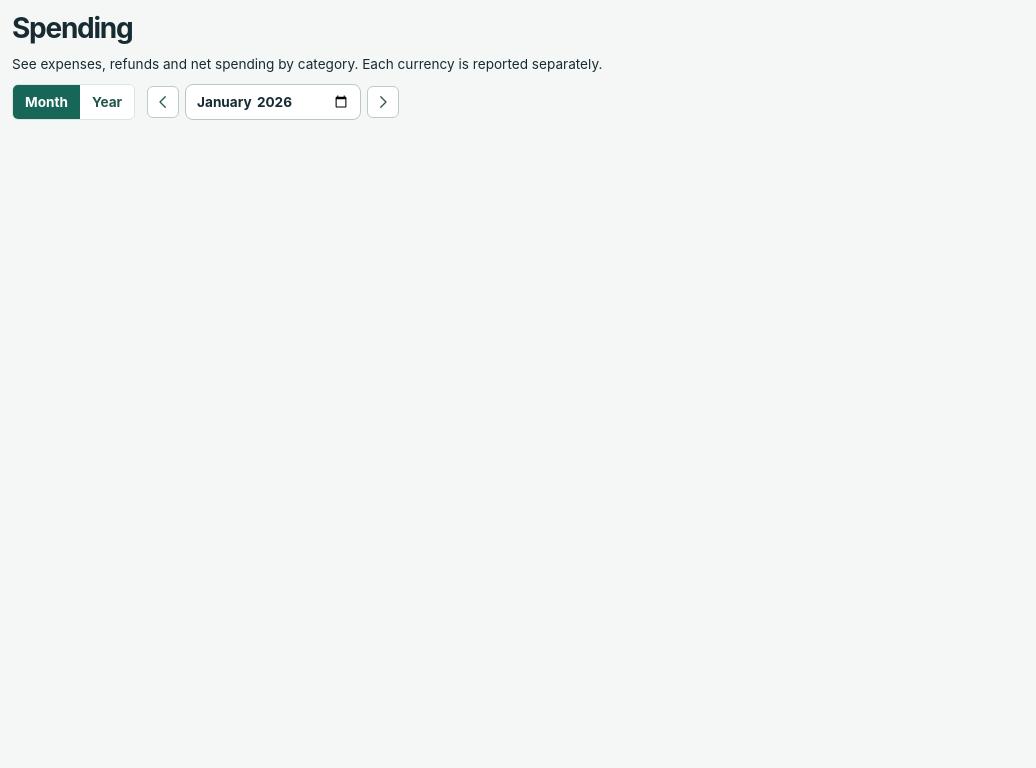
keeps partial year input local, commits on blur and restores invalid input
Click the button "Year". click: (107, 102)
box: [80, 85, 134, 119]
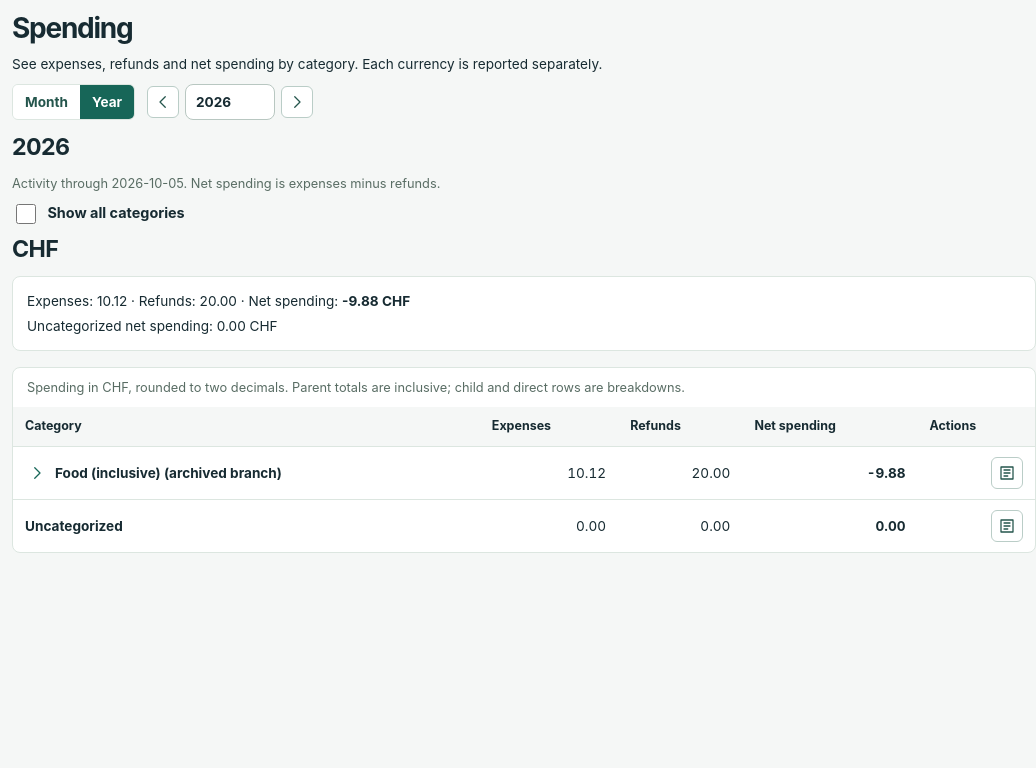
Expected: the heading "2026" is shown, [12, 133, 70, 161]
Replace the text in the number field named "Period" with "26". click: (230, 102)
box: [185, 84, 275, 120]
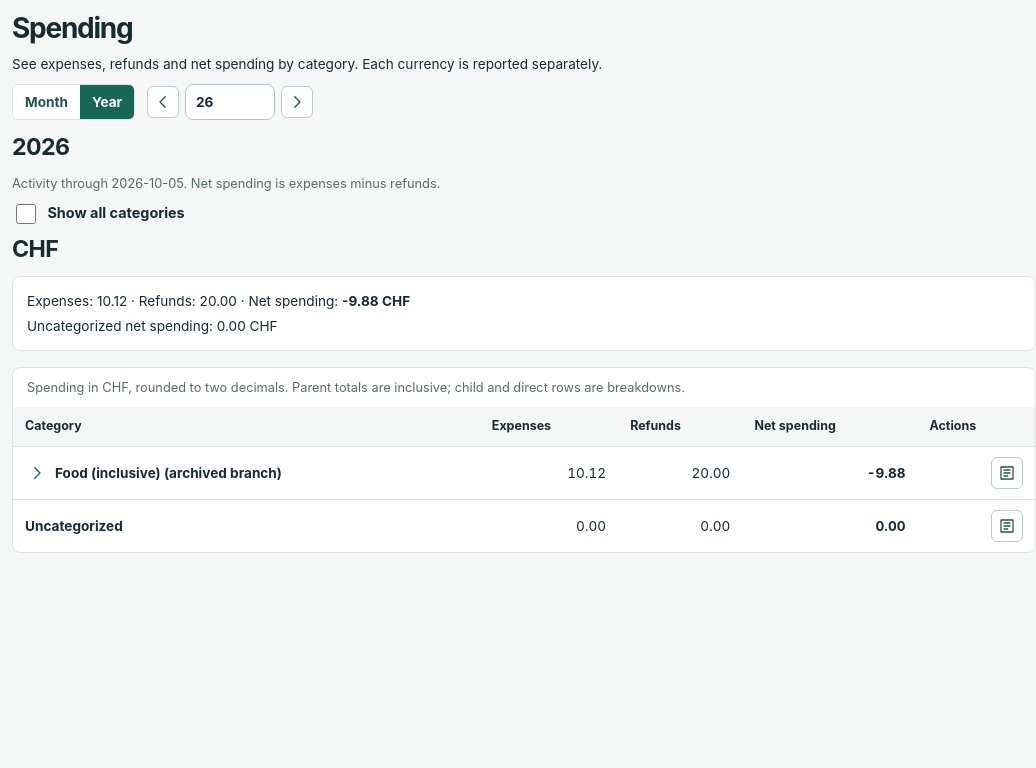
Leave the number field named "Period", box [185, 84, 275, 120]
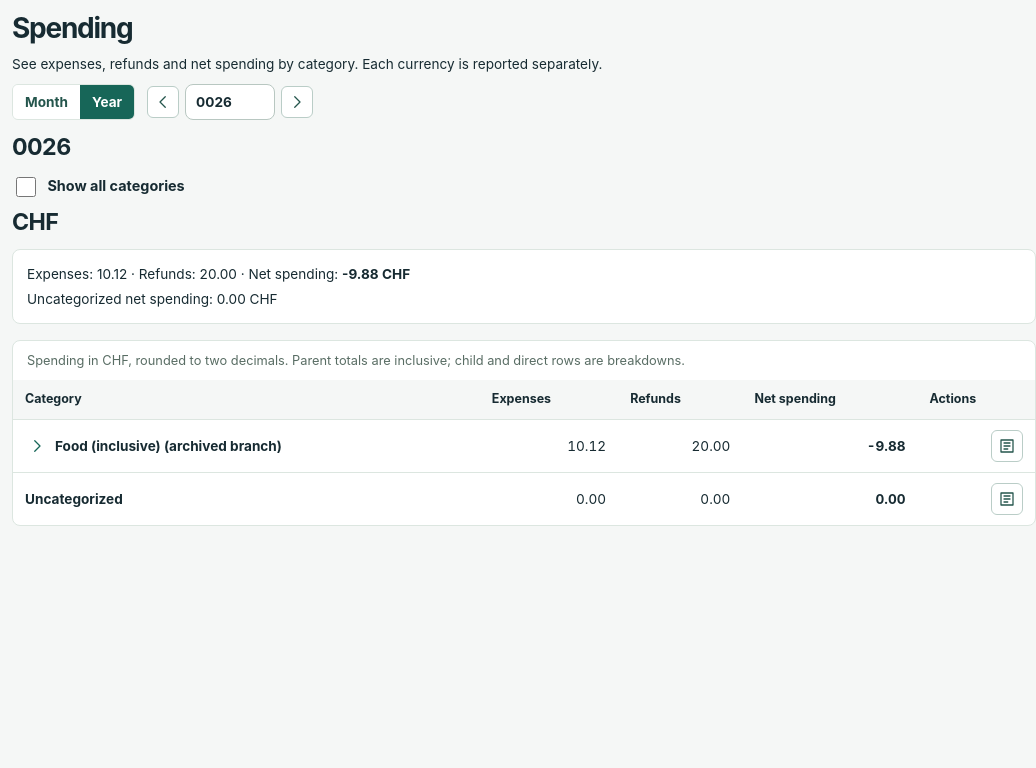
Expected: the heading "0026" is shown, [12, 133, 71, 161]
Replace the text in the number field named "Period" with "10000". click: (230, 102)
box: [185, 84, 275, 120]
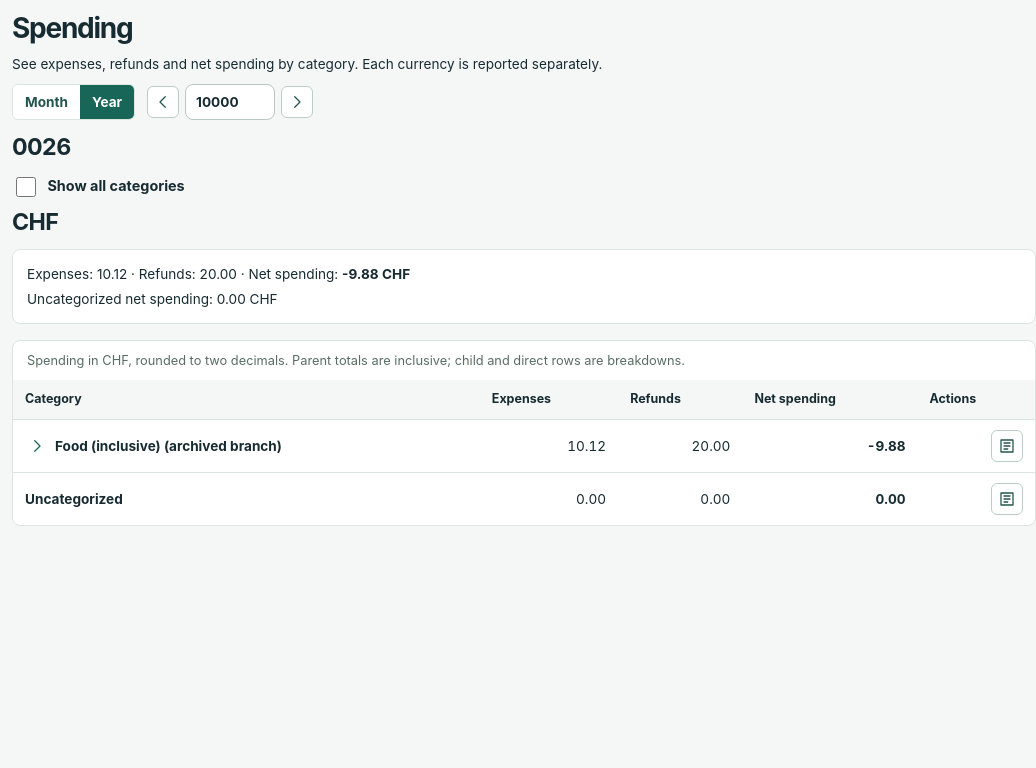
Leave the number field named "Period", box [185, 84, 275, 120]
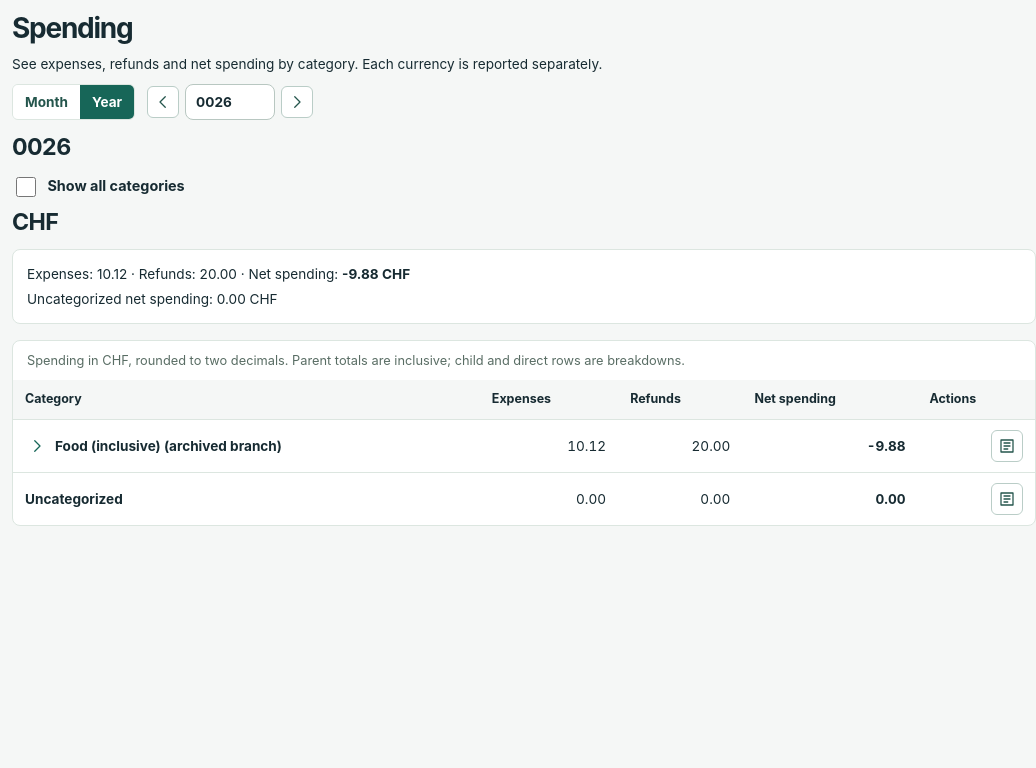
Expected: the number field named "Period" holds "26", [185, 84, 275, 120]
